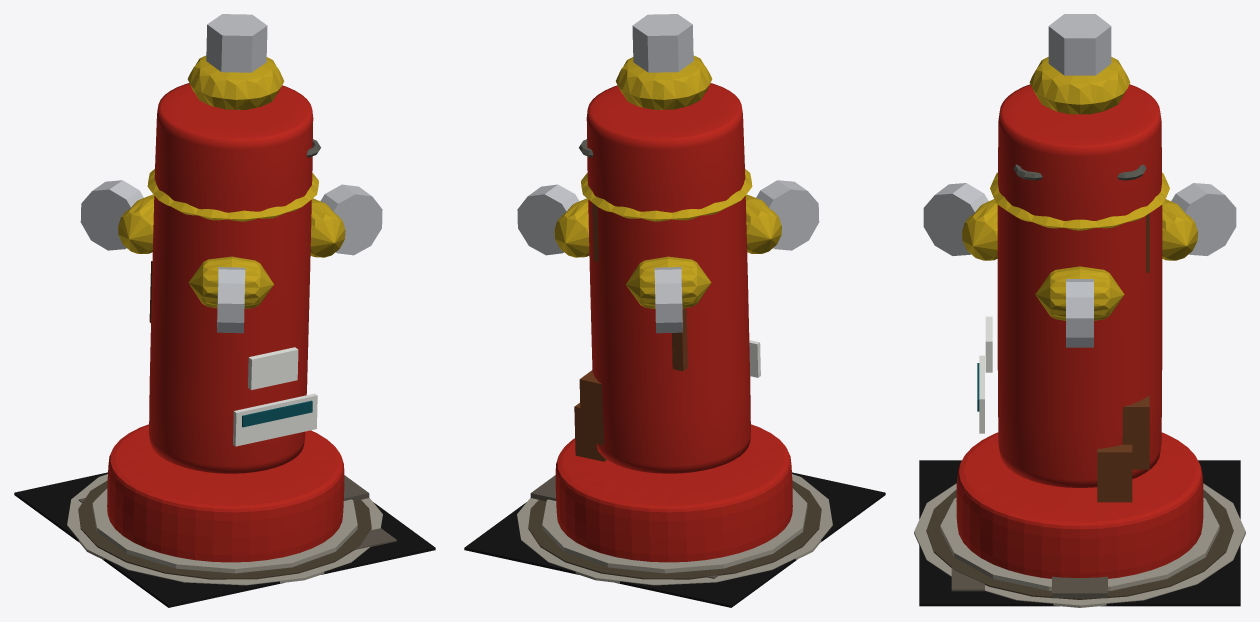
The model's file is hm_prop_hydrant_v2.obj.
The picture shows the model from 3 angles, left to right: view 1: azimuth 30°, elevation 25°; view 2: azimuth 150°, elevation 25°; view 3: azimuth 270°, elevation 25°; orthographic projection. The views are drawn at different scales.
Parts seen in each view (by area): view 1: Hyd_Barrel, Hyd_Base, hm_prop_hydrant_v2_Shadow, Hyd_Salt, hm_prop_hydrant_v2_Dirt, Hyd_Top, Hyd_Nut, hm_prop_hydrant_v2_SaltRing, Hyd_NozCap_1, Hyd_NozCap_0, Hyd_Noz_2, hm_prop_hydrant_v2_AssetPlate (+6 smaller); view 2: Hyd_Barrel, Hyd_Base, hm_prop_hydrant_v2_Shadow, Hyd_Salt, hm_prop_hydrant_v2_Dirt, Hyd_Top, hm_prop_hydrant_v2_SaltRing, Hyd_Nut, Hyd_NozCap_2, Hyd_NozCap_0, Hyd_Noz_1, Hyd_Ring (+6 smaller); view 3: Hyd_Barrel, Hyd_Base, hm_prop_hydrant_v2_Shadow, hm_prop_hydrant_v2_Dirt, Hyd_Salt, hm_prop_hydrant_v2_SaltRing, Hyd_Top, Hyd_Nut, Hyd_NozCap_1, Hyd_NozCap_2, Hyd_Noz_0, Hyd_Ring (+9 smaller).
Boxes of the visible parts, x1,y1,x2,y2 form: Hyd_Barrel: (149,83,313,473); Hyd_Base: (107,424,344,562); hm_prop_hydrant_v2_Shadow: (14,472,435,607); Hyd_Salt: (92,488,357,573); hm_prop_hydrant_v2_Dirt: (78,480,371,579); Hyd_Top: (187,55,283,109); Hyd_Nut: (206,14,267,72); hm_prop_hydrant_v2_SaltRing: (67,474,382,585); Hyd_NozCap_1: (80,180,143,250); Hyd_NozCap_0: (320,184,382,255); Hyd_Noz_2: (188,256,273,308); hm_prop_hydrant_v2_AssetPlate: (233,393,317,446); Hyd_Barrel: (586,83,750,473); Hyd_Base: (555,424,792,562); hm_prop_hydrant_v2_Shadow: (464,472,885,607); Hyd_Salt: (542,488,807,573); hm_prop_hydrant_v2_Dirt: (528,480,821,579); Hyd_Top: (616,55,712,109); hm_prop_hydrant_v2_SaltRing: (517,474,832,585); Hyd_Nut: (632,14,693,72); Hyd_NozCap_2: (756,180,819,250); Hyd_NozCap_0: (517,184,579,255); Hyd_Noz_1: (626,256,711,308); Hyd_Ring: (581,169,752,221); Hyd_Barrel: (997,84,1162,487); Hyd_Base: (956,432,1203,578); hm_prop_hydrant_v2_Shadow: (919,460,1240,606); hm_prop_hydrant_v2_Dirt: (926,489,1233,599); Hyd_Salt: (940,497,1219,590); hm_prop_hydrant_v2_SaltRing: (914,483,1245,607); Hyd_Top: (1029,57,1130,114); Hyd_Nut: (1048,14,1111,75); Hyd_NozCap_1: (1171,183,1236,255); Hyd_NozCap_2: (923,183,988,255); Hyd_Noz_0: (1035,266,1124,320); Hyd_Ring: (990,172,1169,230).
Bounding box in the file's own units: 0.4972 × 0.8208 × 0.4752.
